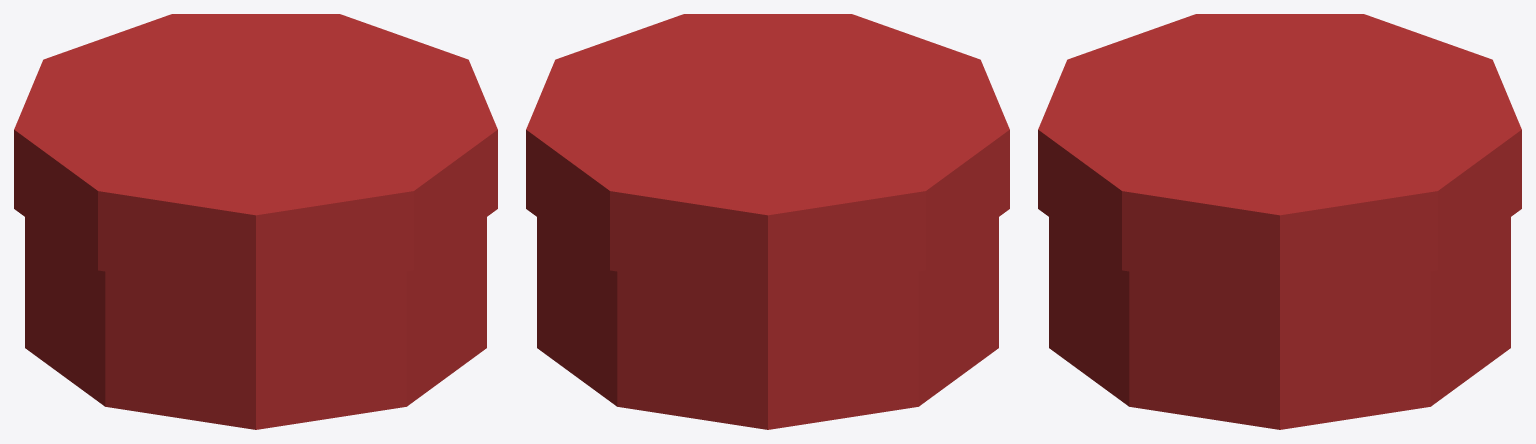
File: Office2_box_1.fbx
The picture shows the model from 3 angles, left to right: view 1: azimuth 30°, elevation 25°; view 2: azimuth 150°, elevation 25°; view 3: azimuth 270°, elevation 25°; orthographic projection.
Parts seen in each view (by area): view 1: Office2_box_1; view 2: Office2_box_1; view 3: Office2_box_1.
Part boxes in pixels (<box>): Office2_box_1: <box>14,14,497,429</box>; Office2_box_1: <box>526,14,1009,429</box>; Office2_box_1: <box>1038,14,1521,429</box>.
Bounding box in the file's own units: 15.76 × 8.01 × 16.
